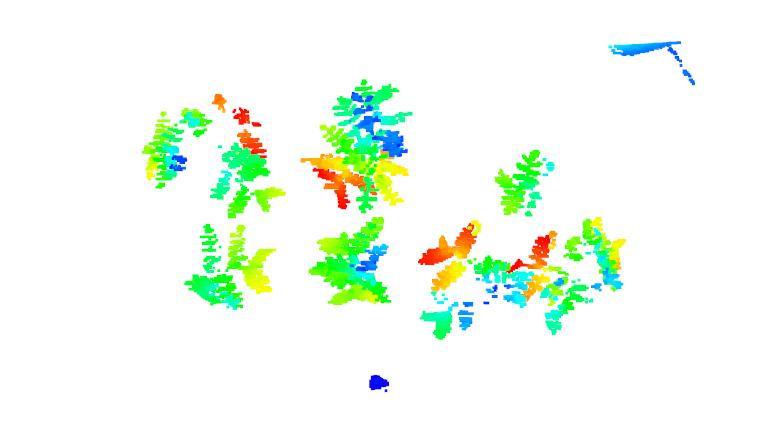chickpea: (306, 78, 415, 212), (525, 208, 633, 339), (420, 227, 529, 343), (211, 91, 287, 218), (176, 221, 277, 312), (307, 217, 398, 302), (143, 104, 211, 190), (495, 146, 559, 219)
